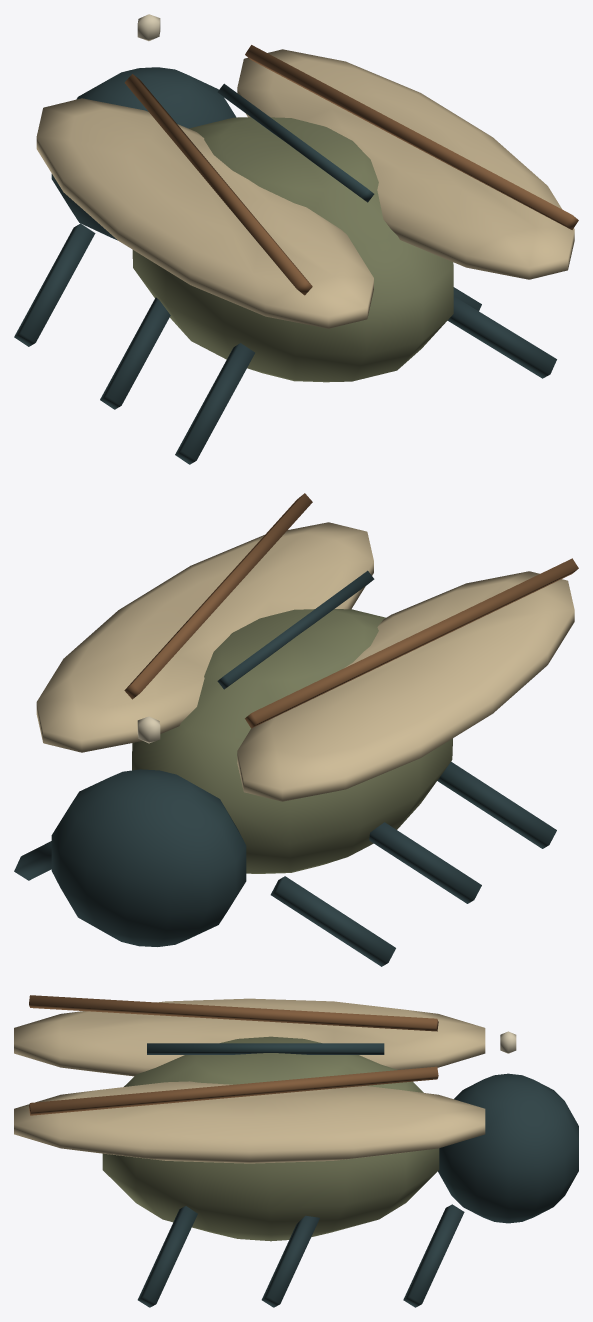
Rendered from insect_cicada.glb.
3 renders of one model, top to bottom at view 1: azimuth 30°, elevation 25°; view 2: azimuth 150°, elevation 25°; view 3: azimuth 270°, elevation 25°, orthographic. The views are drawn at different scales.
Size of the model in its own units: 0.101 by 0.064 by 0.1595.
